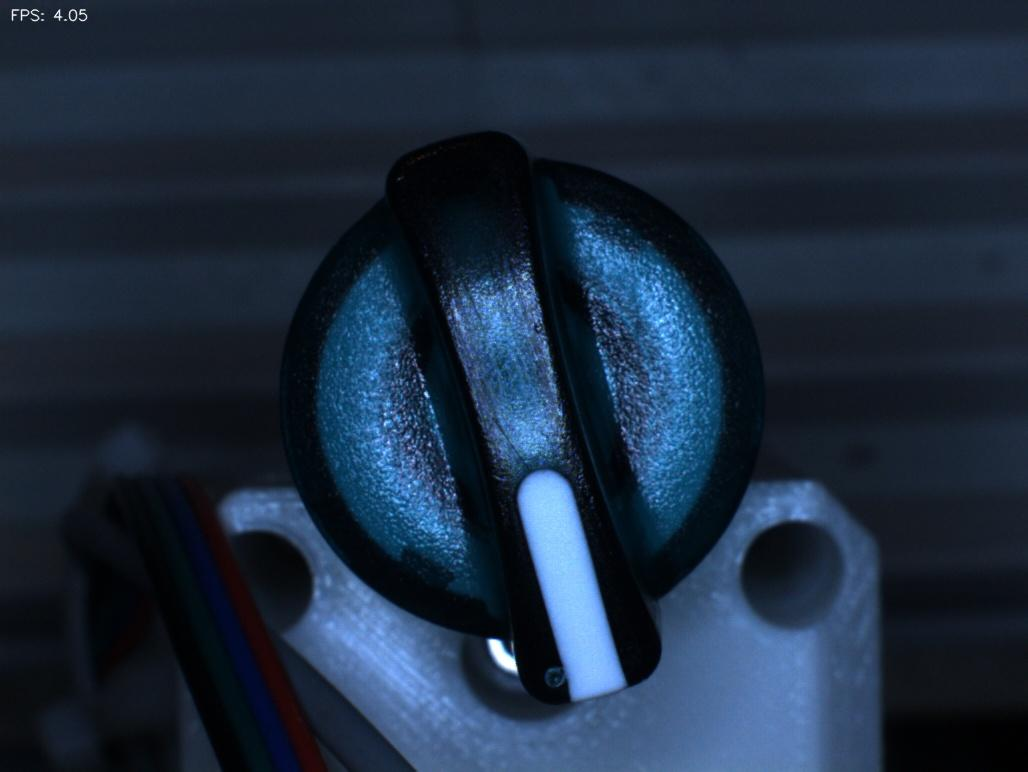Choc: (515, 645, 600, 715)
